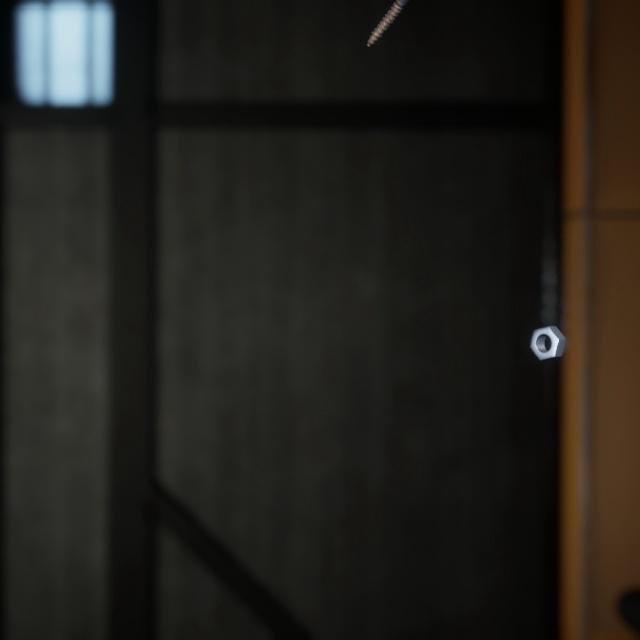bolt: (362, 0, 409, 44)
nut: (525, 303, 570, 346)
